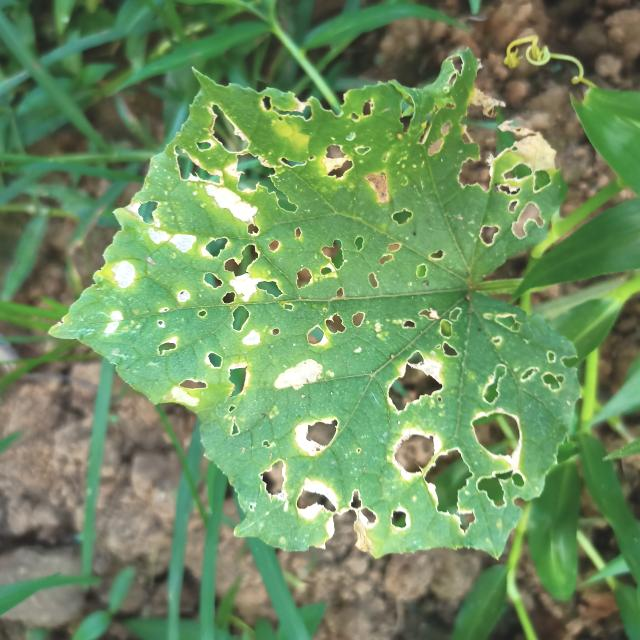disease_cucumber: (103, 79, 563, 545)
